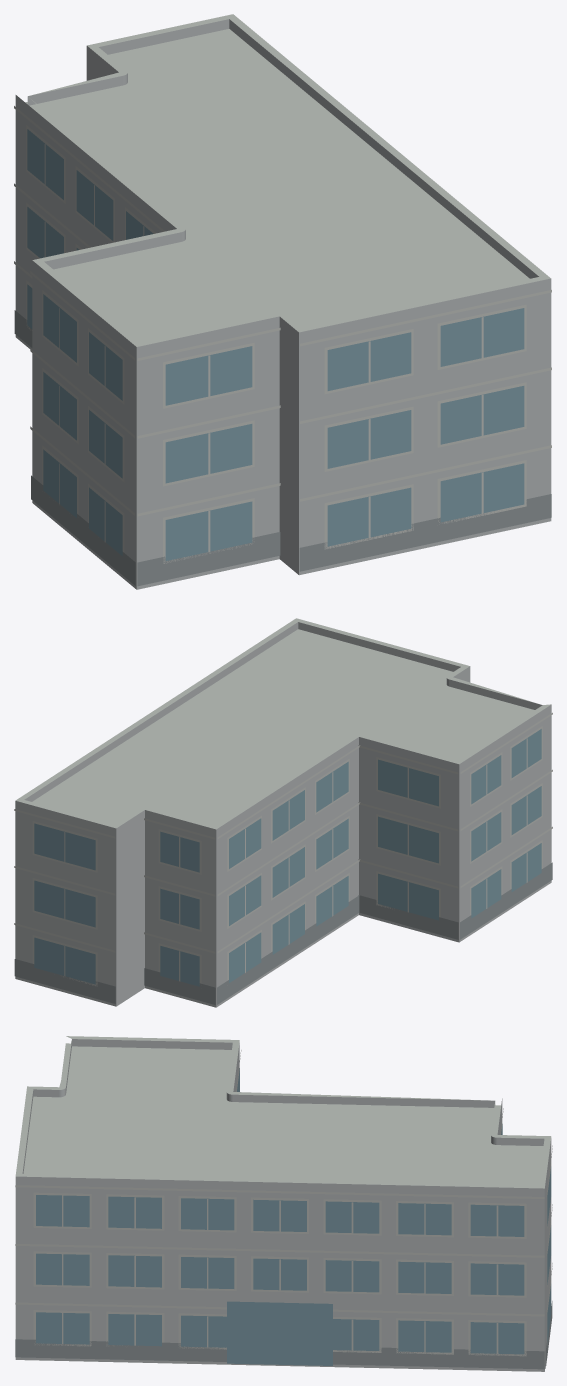
File: public-662f5492-8577-414e-a7b3-2cab58633b2a.glb
3 renders of one model, top to bottom at view 1: azimuth 30°, elevation 25°; view 2: azimuth 150°, elevation 25°; view 3: azimuth 270°, elevation 25°, orthographic. The views are drawn at different scales.
Parts seen in each view (by area): view 1: public-662f5492-8577-414e-a7b3-2cab58633b2a; view 2: public-662f5492-8577-414e-a7b3-2cab58633b2a; view 3: public-662f5492-8577-414e-a7b3-2cab58633b2a.
Boxes of the visible parts, <box> form: public-662f5492-8577-414e-a7b3-2cab58633b2a: <box>14,14,551,589</box>; public-662f5492-8577-414e-a7b3-2cab58633b2a: <box>14,618,552,1007</box>; public-662f5492-8577-414e-a7b3-2cab58633b2a: <box>15,1036,552,1371</box>.
Bounding box in the file's own units: 17.09 × 9.15 × 24.37.
